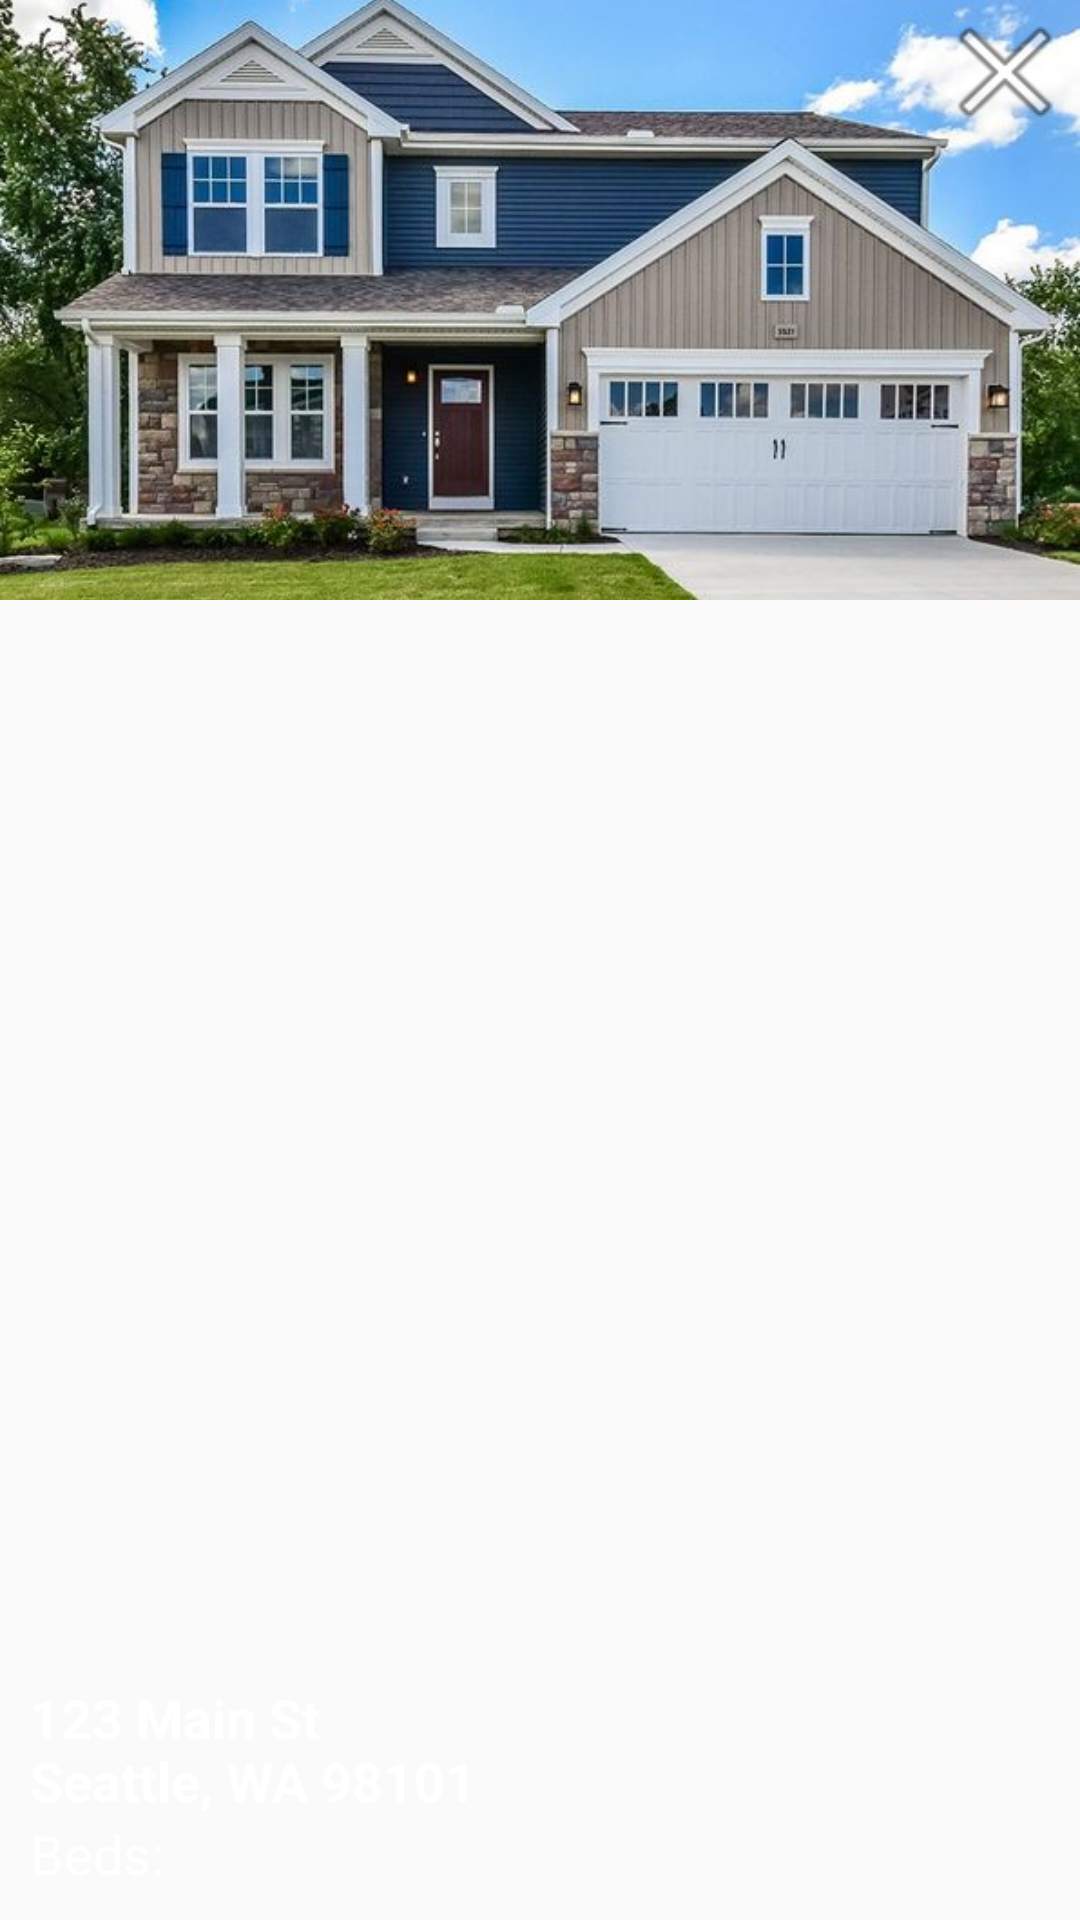

Point at icon controls on the screen. Image size 1080x1920, points as point (x, y).
close clear cancel: point (1005, 72)
